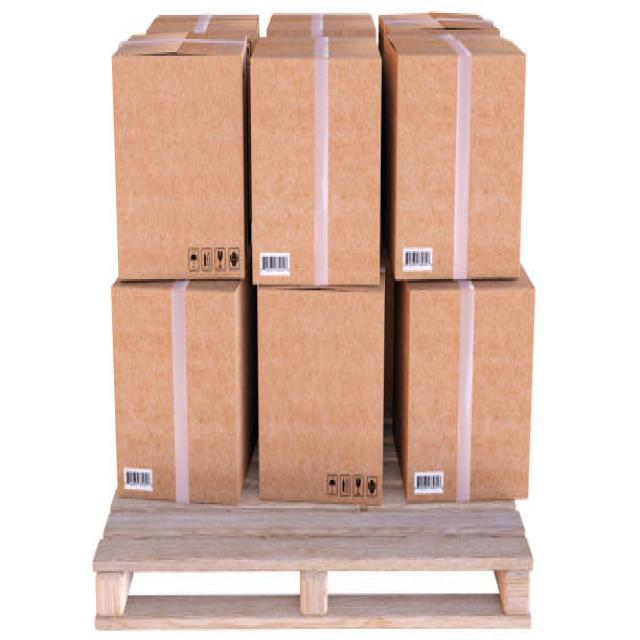Wooden-Pallets: (93, 498, 534, 628)
